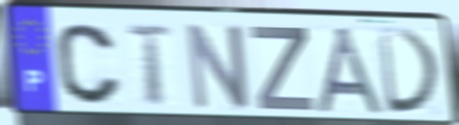A: (313, 24, 390, 116)
C: (53, 21, 124, 108)
D: (375, 25, 445, 117)
N: (184, 19, 253, 113)
T: (124, 22, 177, 108)
Z: (248, 24, 319, 114)
